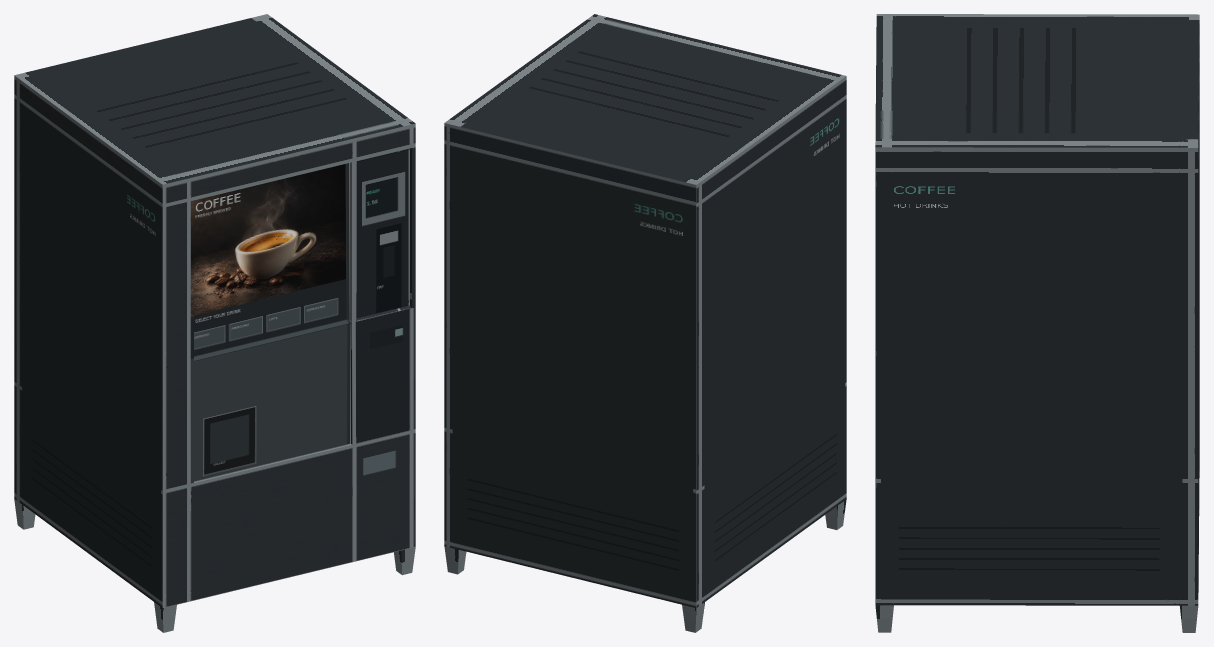
File: 02_coffee_vending_2_dented.glb
3 views of the same model, side by side, from view 1: azimuth 30°, elevation 25°; view 2: azimuth 150°, elevation 25°; view 3: azimuth 270°, elevation 25° (orthographic). The views are drawn at different scales.
Visible parts, largest first — view 1: coffee_machine; view 2: coffee_machine; view 3: coffee_machine.
Part boxes in pixels (box(x1,y1,x2,y2)): coffee_machine: box(14, 14, 415, 632); coffee_machine: box(444, 14, 846, 632); coffee_machine: box(875, 14, 1199, 632).
Size of what is drawn, in the model's own units: 1.25 by 2.12 by 1.28.
1 material, 1 textured.
